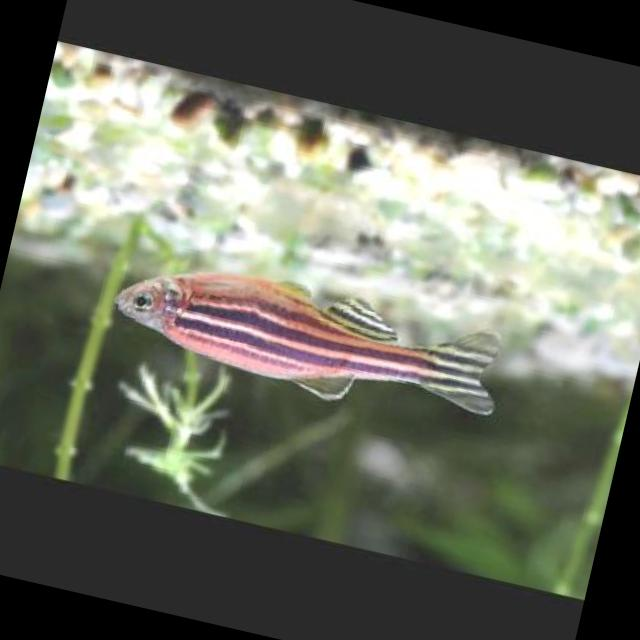ZebraFish: (96, 242, 510, 437)
